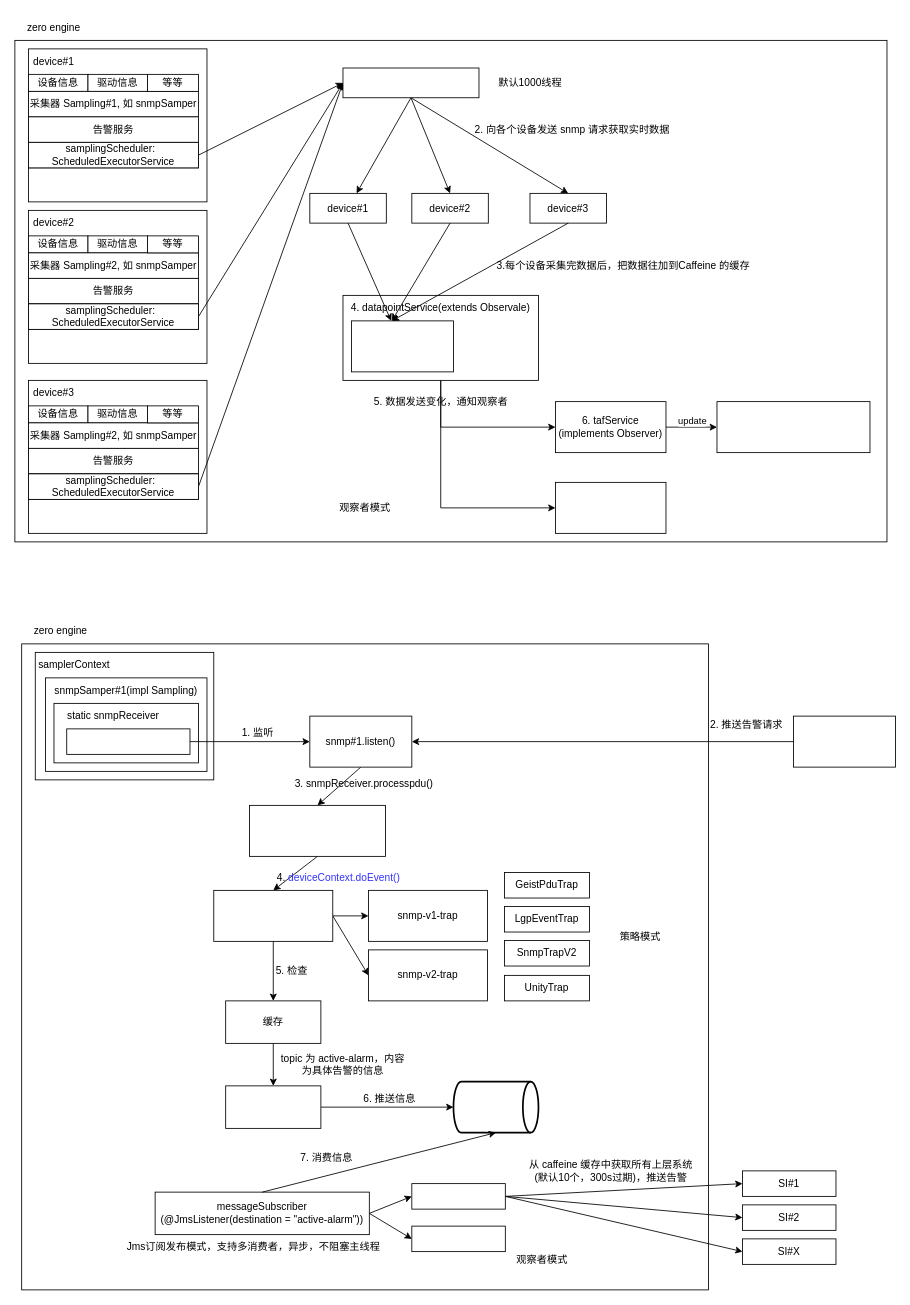
Some shapes in this 910 by 1305 pixel diagram are drawn without their labels. The centre of each missing label's shape, as x and y in pixels:
1. 线程池接收任务，采集信号: (410,82)
7. 推送数据到指定应用 (resttemplate): (793,427)
[alarm]: (273,1106)
activemq: (495,1106)
consumer .accept(trap): (317,830)
consumers-1: (458,1196)
consumers-XXX: (458,1238)
datapoint cache: (402,346)
resolveTrap() 解析告警: (273,915)
snmp#1: (128,741)
XXX (implements Observer): (610,507)
真实设备 device#1: (844,741)
